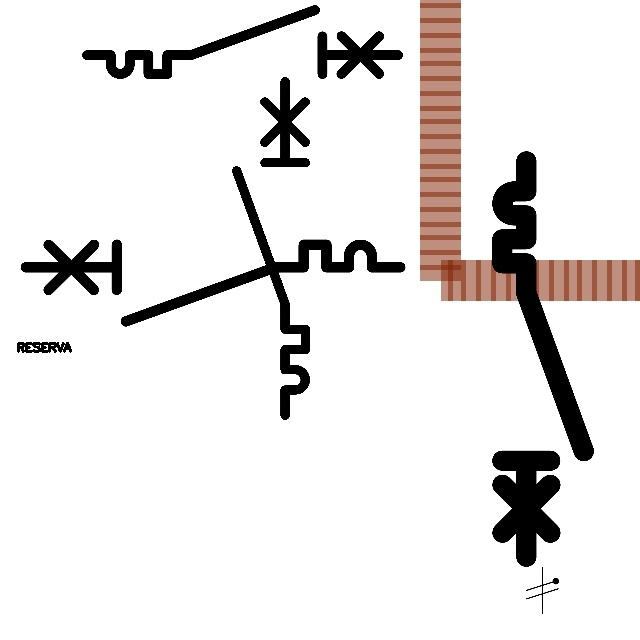interruptor_termomagnetico: (492, 151, 593, 566), (16, 235, 410, 331), (228, 73, 314, 424), (79, 2, 406, 82)
